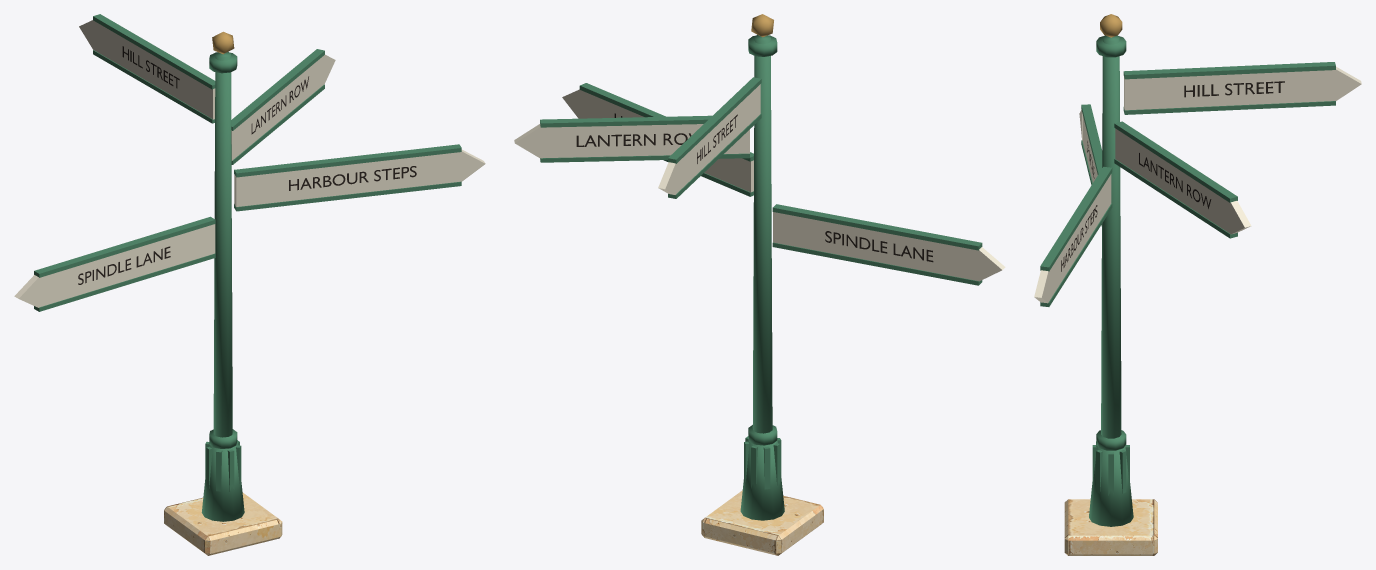
3 renders of one model, left to right at view 1: azimuth 30°, elevation 25°; view 2: azimuth 150°, elevation 25°; view 3: azimuth 270°, elevation 25°, orthographic. The views are drawn at different scales.
Visible parts, largest first — view 1: house_paint, seaside_stone; view 2: house_paint, seaside_stone; view 3: house_paint, seaside_stone.
Part boxes in pixels (box(x1,y1,x2,y2)): house_paint: box(14, 14, 485, 521); seaside_stone: box(164, 492, 282, 555); house_paint: box(514, 14, 1005, 520); seaside_stone: box(701, 490, 823, 555); house_paint: box(1034, 14, 1361, 526); seaside_stone: box(1064, 499, 1157, 555).
Bounding box in the file's own units: 2.89 × 3.09 × 1.75.
2 materials, 2 textured.
